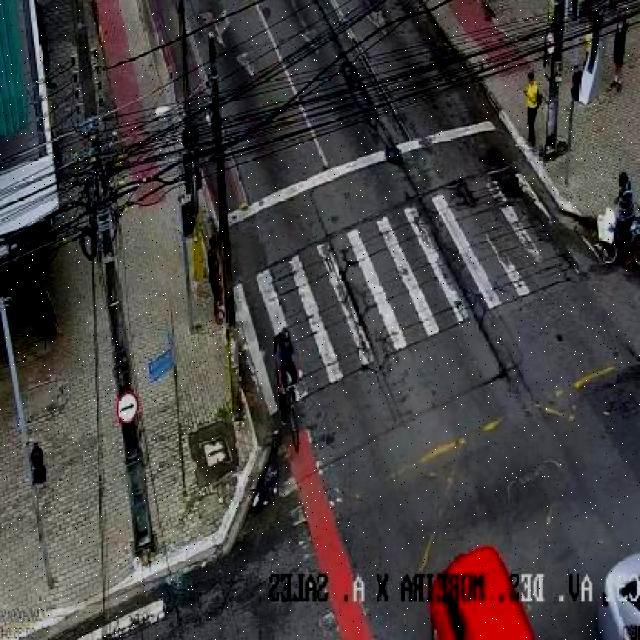car: (430, 546, 535, 640), (605, 554, 640, 640)
traffic-lights: (30, 442, 46, 484)
